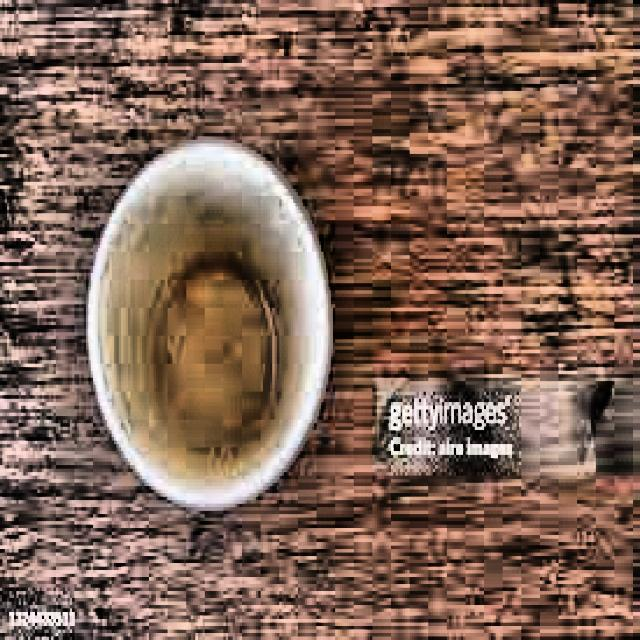Cup: (74, 140, 337, 533)
